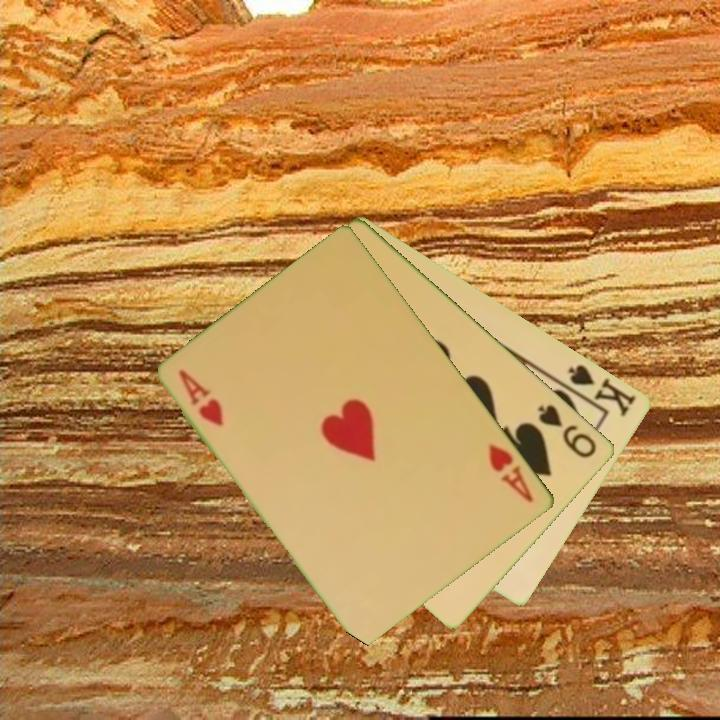9s: (534, 401, 600, 461)
Ah: (485, 440, 537, 506), (175, 366, 227, 429)
Ks: (565, 360, 640, 420)
